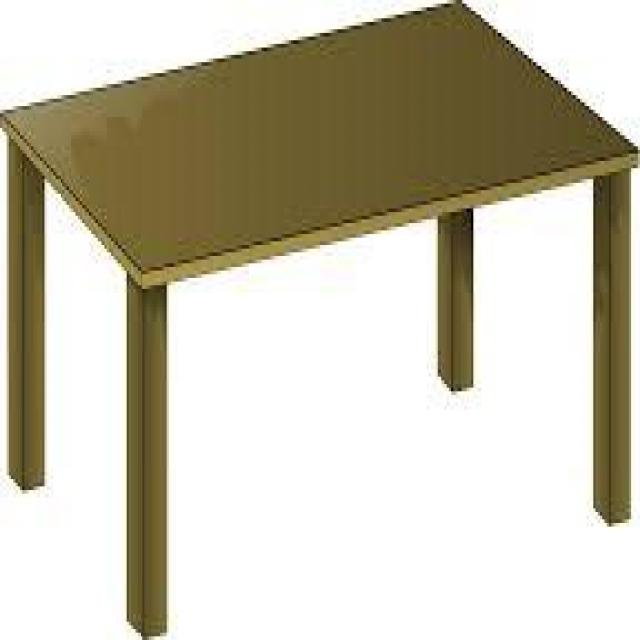table: (2, 51, 640, 618)
